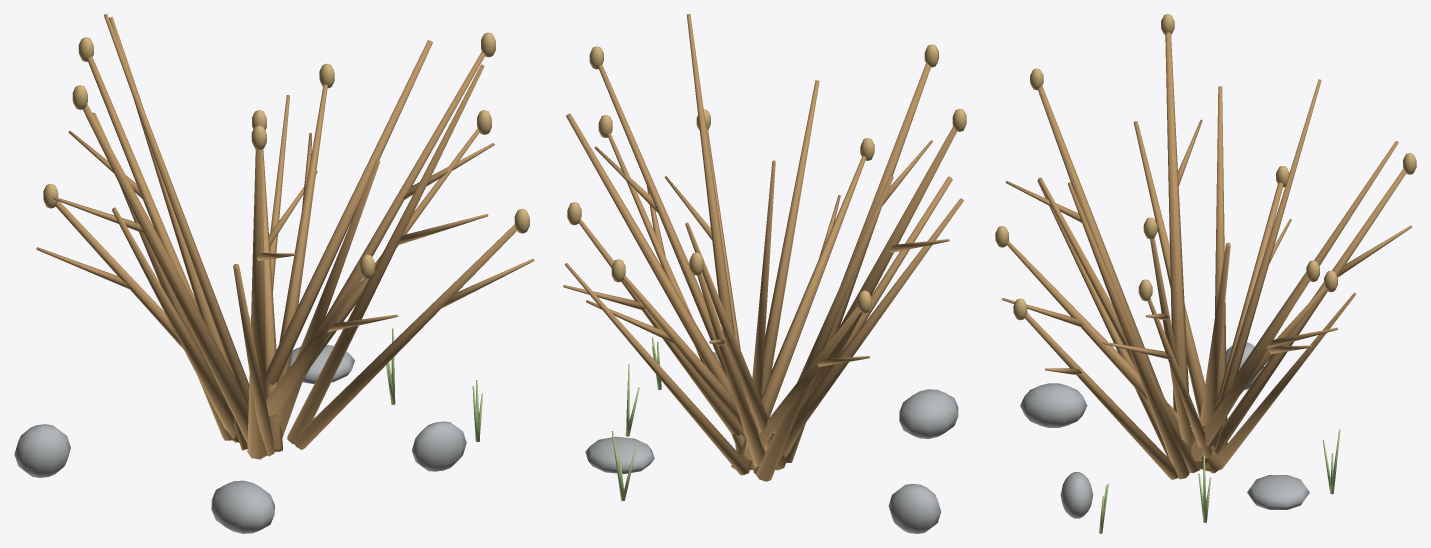
Rendered from dry_bush_c.glb.
3 renders of one model, left to right at view 1: azimuth 30°, elevation 25°; view 2: azimuth 150°, elevation 25°; view 3: azimuth 270°, elevation 25°, orthographic. The views are drawn at different scales.
Visible parts, largest first — view 1: dry_bush_c_stem_10, dry_bush_c_stem_17, dry_bush_c_stem_1, dry_bush_c_stem_7, dry_bush_c_stem_16, dry_bush_c_stem_12, dry_bush_c_stem_11, dry_bush_ground_rock_1, dry_bush_c_stem_2, dry_bush_c_stem_0, dry_bush_ground_rock_2, dry_bush_c_stem_15 (+11 smaller); view 2: dry_bush_c_stem_1, dry_bush_c_stem_14, dry_bush_c_stem_9, dry_bush_c_stem_11, dry_bush_c_stem_15, dry_bush_c_stem_10, dry_bush_c_stem_17, dry_bush_c_stem_0, dry_bush_c_stem_3, dry_bush_ground_rock_1, dry_bush_c_stem_12, dry_bush_c_stem_5 (+10 smaller); view 3: dry_bush_c_stem_10, dry_bush_c_stem_17, dry_bush_c_stem_6, dry_bush_c_stem_7, dry_bush_c_stem_12, dry_bush_ground_rock_1, dry_bush_c_stem_15, dry_bush_c_stem_16, dry_bush_c_stem_14, dry_bush_c_stem_11, dry_bush_c_stem_9, dry_bush_c_stem_2 (+10 smaller).
Boxes of the visible parts, box(x1,y1,x2,y2) form: dry_bush_c_stem_10: box(83, 104, 248, 442); dry_bush_c_stem_17: box(287, 64, 484, 444); dry_bush_c_stem_1: box(233, 40, 432, 442); dry_bush_c_stem_7: box(104, 14, 249, 402); dry_bush_c_stem_16: box(293, 224, 516, 449); dry_bush_c_stem_12: box(247, 149, 267, 459); dry_bush_c_stem_11: box(112, 207, 237, 442); dry_bush_ground_rock_1: box(211, 480, 274, 533); dry_bush_c_stem_2: box(278, 84, 327, 382); dry_bush_c_stem_0: box(274, 51, 484, 416); dry_bush_ground_rock_2: box(14, 424, 70, 477); dry_bush_c_stem_15: box(275, 160, 380, 437); dry_bush_c_stem_1: box(566, 113, 780, 469); dry_bush_c_stem_14: box(731, 155, 866, 473); dry_bush_c_stem_9: box(756, 175, 893, 481); dry_bush_c_stem_11: box(753, 198, 963, 473); dry_bush_c_stem_15: box(761, 80, 819, 396); dry_bush_c_stem_10: box(783, 126, 956, 457); dry_bush_c_stem_17: box(686, 14, 741, 451); dry_bush_c_stem_0: box(598, 65, 749, 408); dry_bush_c_stem_3: box(565, 263, 750, 475); dry_bush_ground_rock_1: box(899, 389, 958, 438); dry_bush_c_stem_12: box(785, 63, 930, 462); dry_bush_c_stem_5: box(685, 222, 786, 470); dry_bush_c_stem_10: box(1165, 32, 1188, 411); dry_bush_c_stem_17: box(1068, 182, 1189, 479); dry_bush_c_stem_6: box(1216, 168, 1406, 454); dry_bush_c_stem_7: box(1210, 79, 1321, 447); dry_bush_c_stem_12: box(1038, 86, 1163, 394); dry_bush_ground_rock_1: box(1020, 383, 1087, 427); dry_bush_c_stem_15: box(1038, 177, 1200, 472); dry_bush_c_stem_16: box(1025, 313, 1177, 479); dry_bush_c_stem_14: box(1006, 241, 1223, 473); dry_bush_c_stem_11: box(1133, 121, 1205, 419); dry_bush_c_stem_9: box(1215, 86, 1227, 449); dry_bush_c_stem_2: box(1191, 277, 1309, 461).
Bounding box in the file's own units: 0.8897 × 0.8476 × 0.8714.
